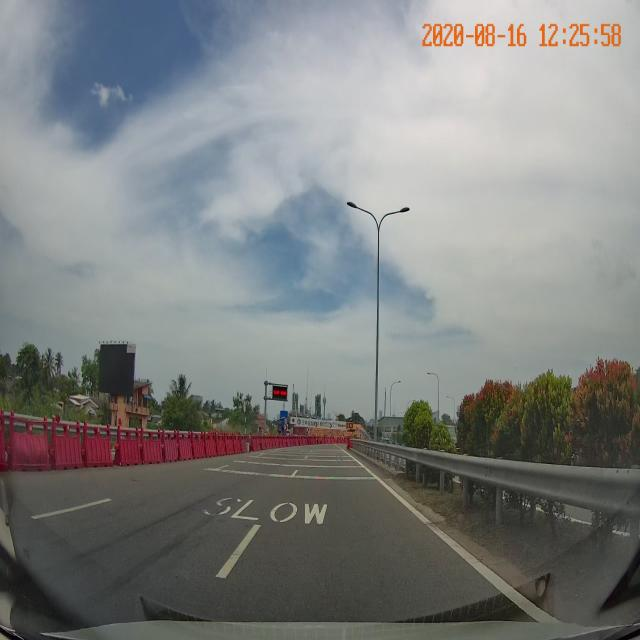SLOW: (202, 493, 331, 533)
